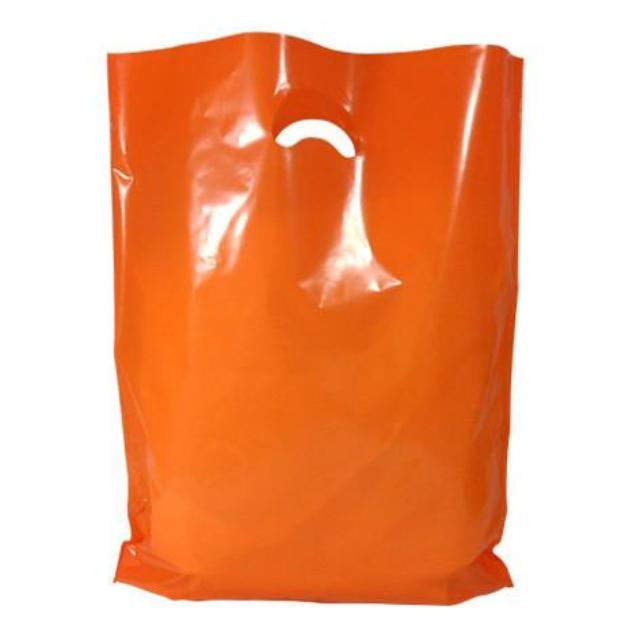Bolsa-de-nilon: (100, 29, 527, 605)
